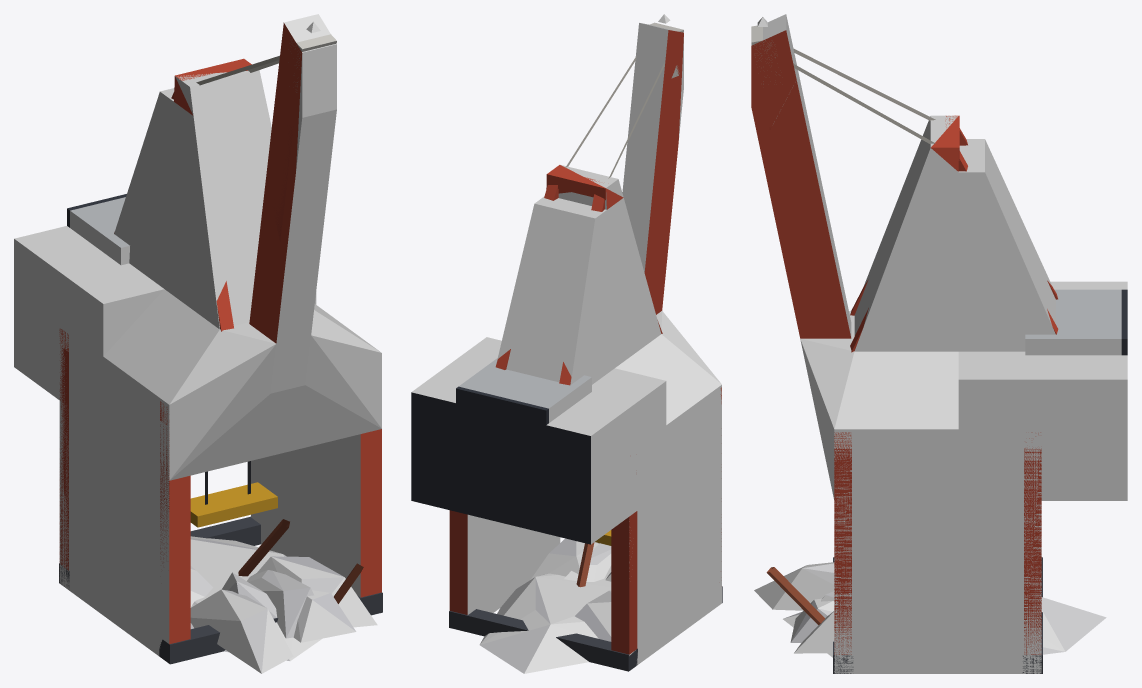
The model's file is bld_crane_a.glb.
3 renders of one model, left to right at view 1: azimuth 30°, elevation 25°; view 2: azimuth 150°, elevation 25°; view 3: azimuth 270°, elevation 25°, orthographic. The views are drawn at different scales.
Visible parts, largest first — view 1: chunk_02, chunk_04, chunk_00, chunk_03, rubble, damaged, chunk_06, chunk_01, chunk_05, intact; view 2: chunk_03, chunk_05, damaged, chunk_00, rubble, chunk_04, chunk_01, chunk_02, chunk_06, intact; view 3: chunk_03, chunk_04, chunk_02, chunk_00, chunk_05, damaged, chunk_01, chunk_06, rubble, intact.
Part boxes in pixels (bbox=[...]): chunk_02: bbox=[103, 289, 381, 480]; chunk_04: bbox=[164, 98, 330, 343]; chunk_00: bbox=[103, 433, 371, 655]; chunk_03: bbox=[14, 226, 316, 431]; rubble: bbox=[190, 519, 377, 673]; damaged: bbox=[59, 58, 382, 664]; chunk_06: bbox=[173, 14, 336, 172]; chunk_01: bbox=[59, 401, 294, 614]; chunk_05: bbox=[70, 88, 174, 288]; intact: bbox=[196, 22, 336, 336]; chunk_03: bbox=[411, 337, 666, 544]; chunk_05: bbox=[459, 196, 614, 422]; damaged: bbox=[449, 169, 722, 671]; chunk_00: bbox=[504, 449, 721, 643]; rubble: bbox=[479, 538, 611, 673]; chunk_04: bbox=[607, 142, 678, 367]; chunk_01: bbox=[449, 490, 666, 665]; chunk_02: bbox=[615, 311, 721, 488]; chunk_06: bbox=[546, 23, 683, 209]; intact: bbox=[565, 14, 683, 178]; chunk_03: bbox=[958, 281, 1127, 500]; chunk_04: bbox=[763, 140, 958, 351]; chunk_02: bbox=[800, 310, 958, 500]; chunk_00: bbox=[834, 501, 958, 673]; chunk_05: bbox=[958, 139, 1121, 355]; damaged: bbox=[770, 80, 1127, 673]; chunk_01: bbox=[958, 501, 1041, 673]; chunk_06: bbox=[751, 14, 958, 172]; rubble: bbox=[754, 562, 1106, 657]; intact: bbox=[751, 17, 935, 232].
Bounding box in the file's own units: 15.9 × 46 × 25.79.
